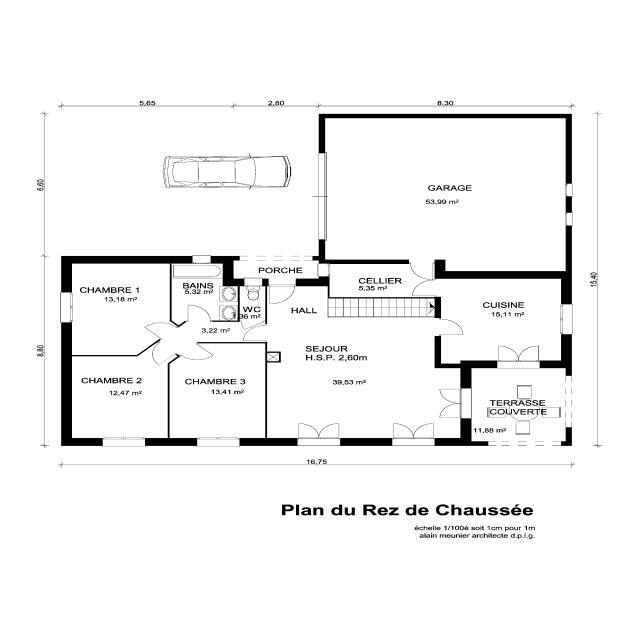door: (435, 382, 468, 420), (383, 421, 442, 441), (491, 343, 546, 364), (290, 421, 347, 441), (434, 315, 468, 338), (406, 258, 438, 282), (408, 278, 442, 298), (268, 282, 297, 304), (242, 323, 269, 342), (187, 303, 212, 322), (317, 262, 337, 279), (244, 282, 263, 298)
window: (560, 371, 576, 428), (556, 300, 576, 338), (98, 436, 150, 448), (59, 290, 75, 326), (192, 436, 244, 447), (386, 439, 442, 448), (518, 439, 562, 448), (189, 254, 216, 265), (483, 439, 520, 447), (562, 211, 576, 228), (561, 182, 575, 199)
zone: (333, 117, 568, 269), (267, 301, 446, 441), (437, 277, 565, 363), (169, 342, 268, 439), (70, 354, 170, 439), (466, 364, 568, 441), (70, 262, 171, 322), (324, 263, 437, 301), (171, 262, 232, 322), (231, 258, 322, 283), (188, 321, 260, 344)
